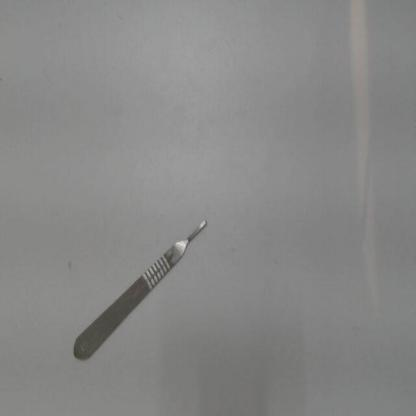No.3 BP Handle: (64, 212, 215, 376)
